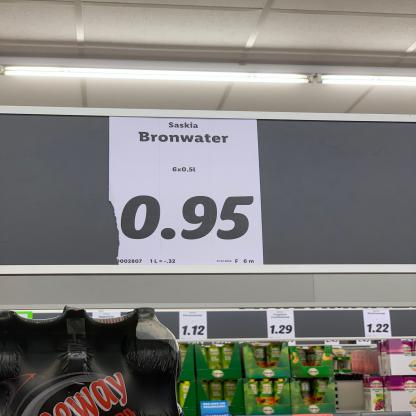prtg: (110, 117, 264, 266), (267, 311, 296, 339), (180, 312, 208, 340), (364, 311, 393, 338)
